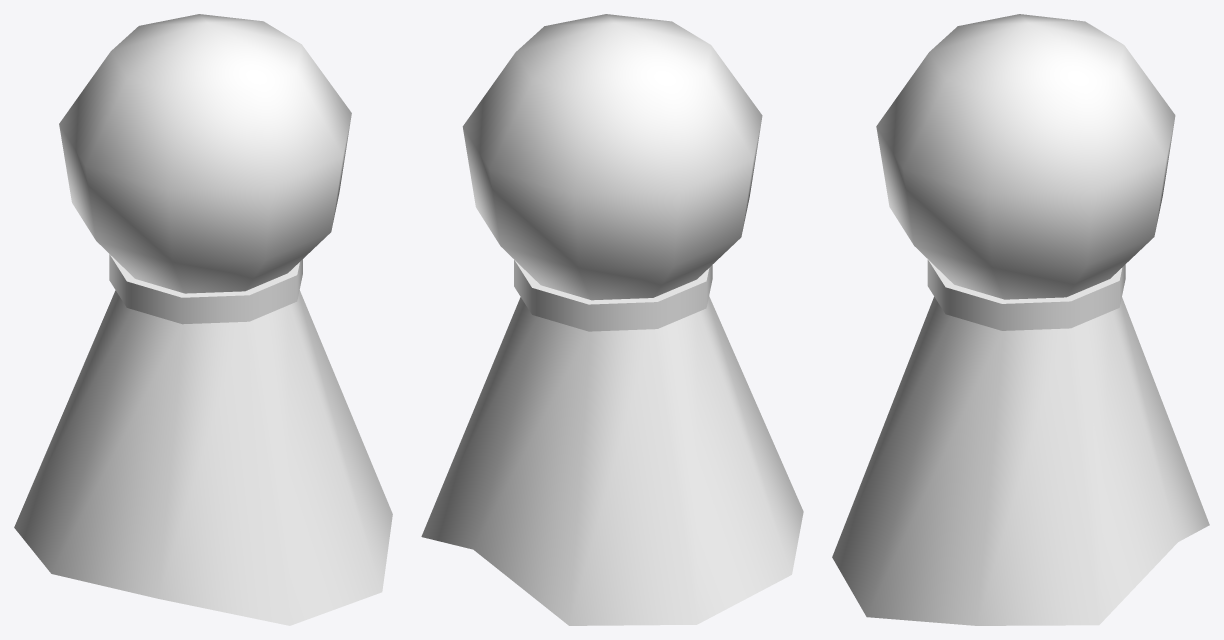
Rendered from item1.fbx.
The picture shows the model from 3 angles, left to right: view 1: azimuth 30°, elevation 25°; view 2: azimuth 150°, elevation 25°; view 3: azimuth 270°, elevation 25°; orthographic projection. The views are drawn at different scales.
Visible parts, largest first — view 1: Sphere009; view 2: Sphere009; view 3: Sphere009.
Part boxes in pixels (<box>): Sphere009: <box>14,14,392,625</box>; Sphere009: <box>421,14,803,625</box>; Sphere009: <box>832,14,1209,625</box>.
Bounding box in the file's own units: 60.59 × 95.37 × 59.76.
